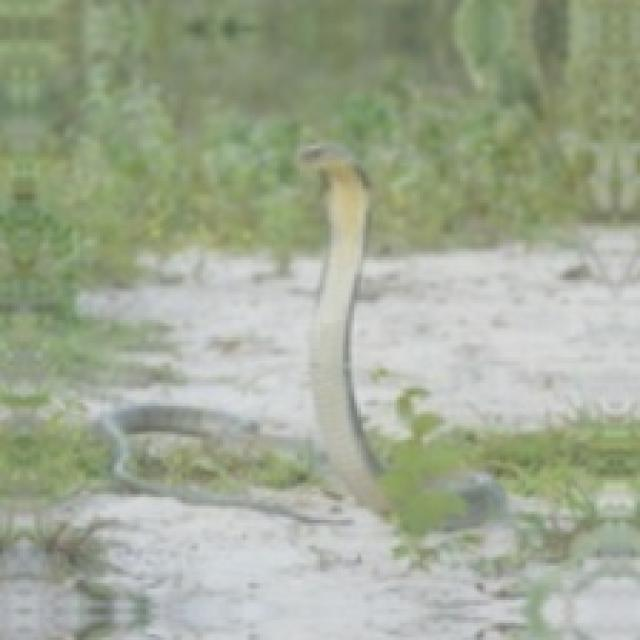king cobra: (297, 146, 389, 514)
